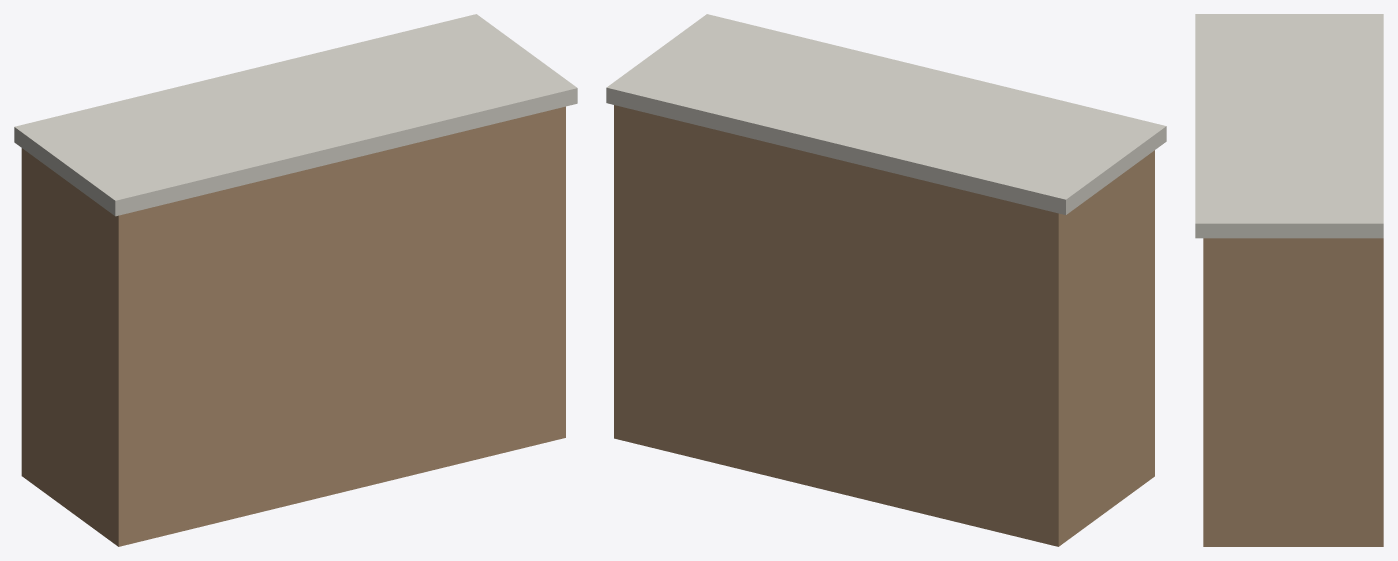
File: cabinet.glb
3 views of the same model, side by side, from view 1: azimuth 30°, elevation 25°; view 2: azimuth 150°, elevation 25°; view 3: azimuth 270°, elevation 25° (orthographic). The views are drawn at different scales.
Parts seen in each view (by area): view 1: carcass, top; view 2: carcass, top; view 3: carcass, top.
Part boxes in pixels (x1=…): carcass: x1=21, y1=106, x2=565, y2=546; top: x1=14, y1=14, x2=577, y2=216; carcass: x1=614, y1=105, x2=1154, y2=546; top: x1=606, y1=14, x2=1166, y2=214; carcass: x1=1203, y1=238, x2=1383, y2=546; top: x1=1195, y1=14, x2=1383, y2=238.
Bounding box in the file's own units: 1.24 × 0.9 × 0.47.
